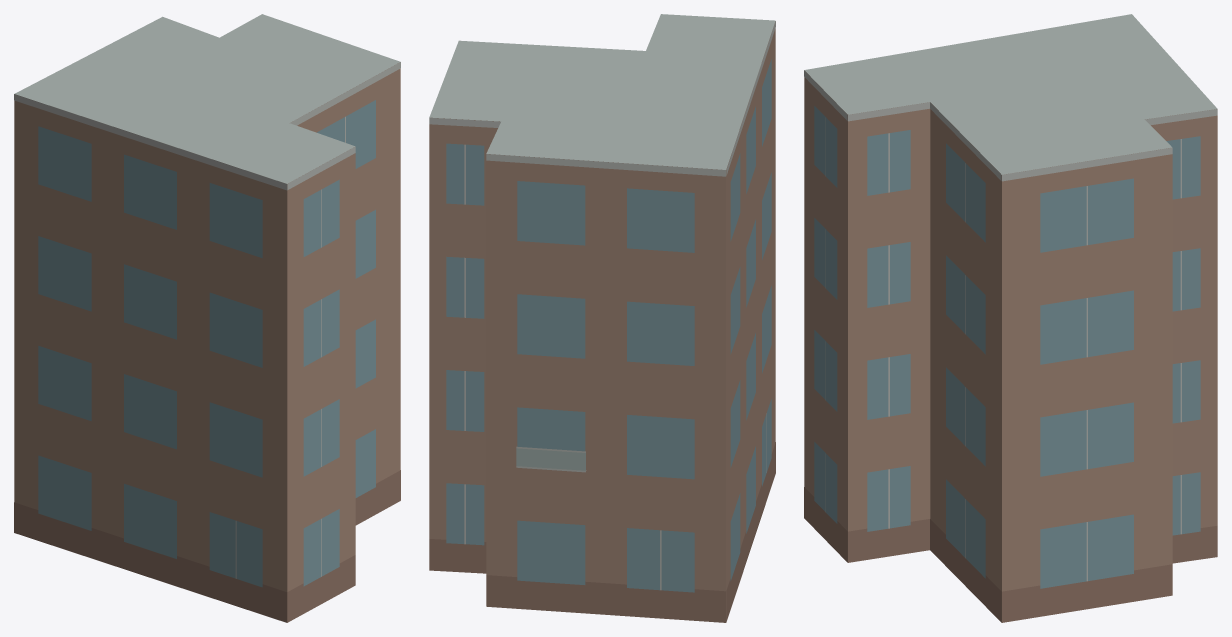
File: survey-upis-32954996.glb
The picture shows the model from 3 angles, left to right: view 1: azimuth 30°, elevation 25°; view 2: azimuth 150°, elevation 25°; view 3: azimuth 270°, elevation 25°; orthographic projection. The views are drawn at different scales.
Visible parts, largest first — view 1: survey-upis-32954996.tmp; view 2: survey-upis-32954996.tmp; view 3: survey-upis-32954996.tmp.
Part boxes in pixels (x1,y1,x2,y2): survey-upis-32954996.tmp: [14, 14, 400, 622]; survey-upis-32954996.tmp: [429, 14, 775, 622]; survey-upis-32954996.tmp: [804, 14, 1217, 622].
Bounding box in the file's own units: 12.67 × 16.45 × 13.77.
